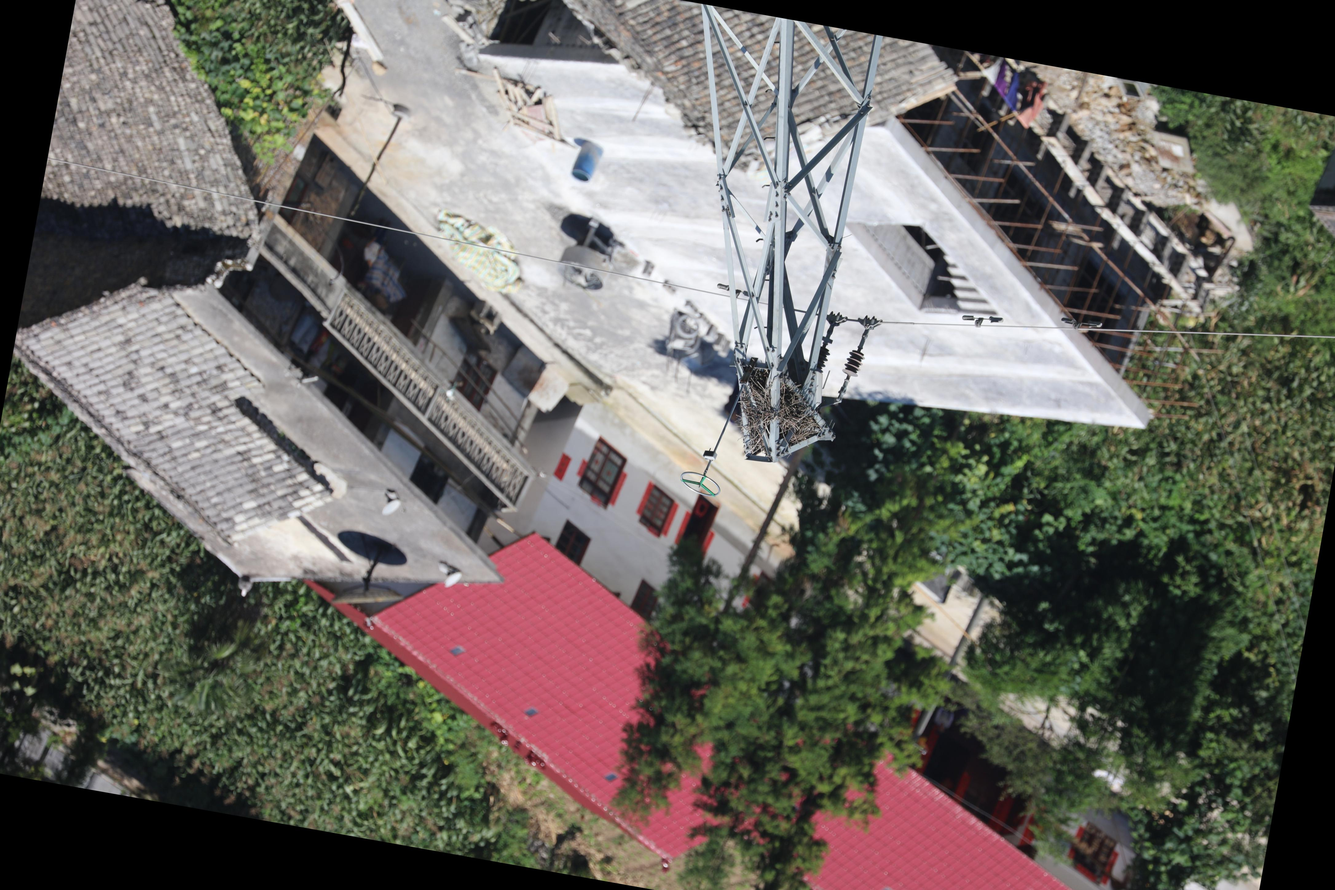damper: (1057, 313, 1105, 337), (959, 308, 1005, 333), (713, 281, 757, 304)
